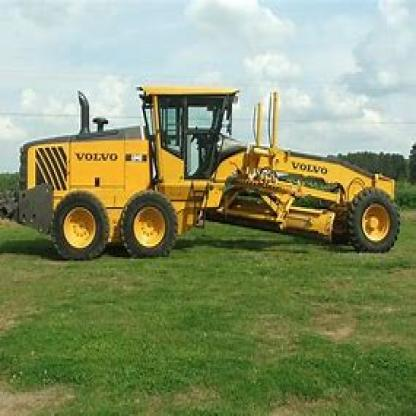bull_dozer/loader/grader: (22, 78, 410, 260)
